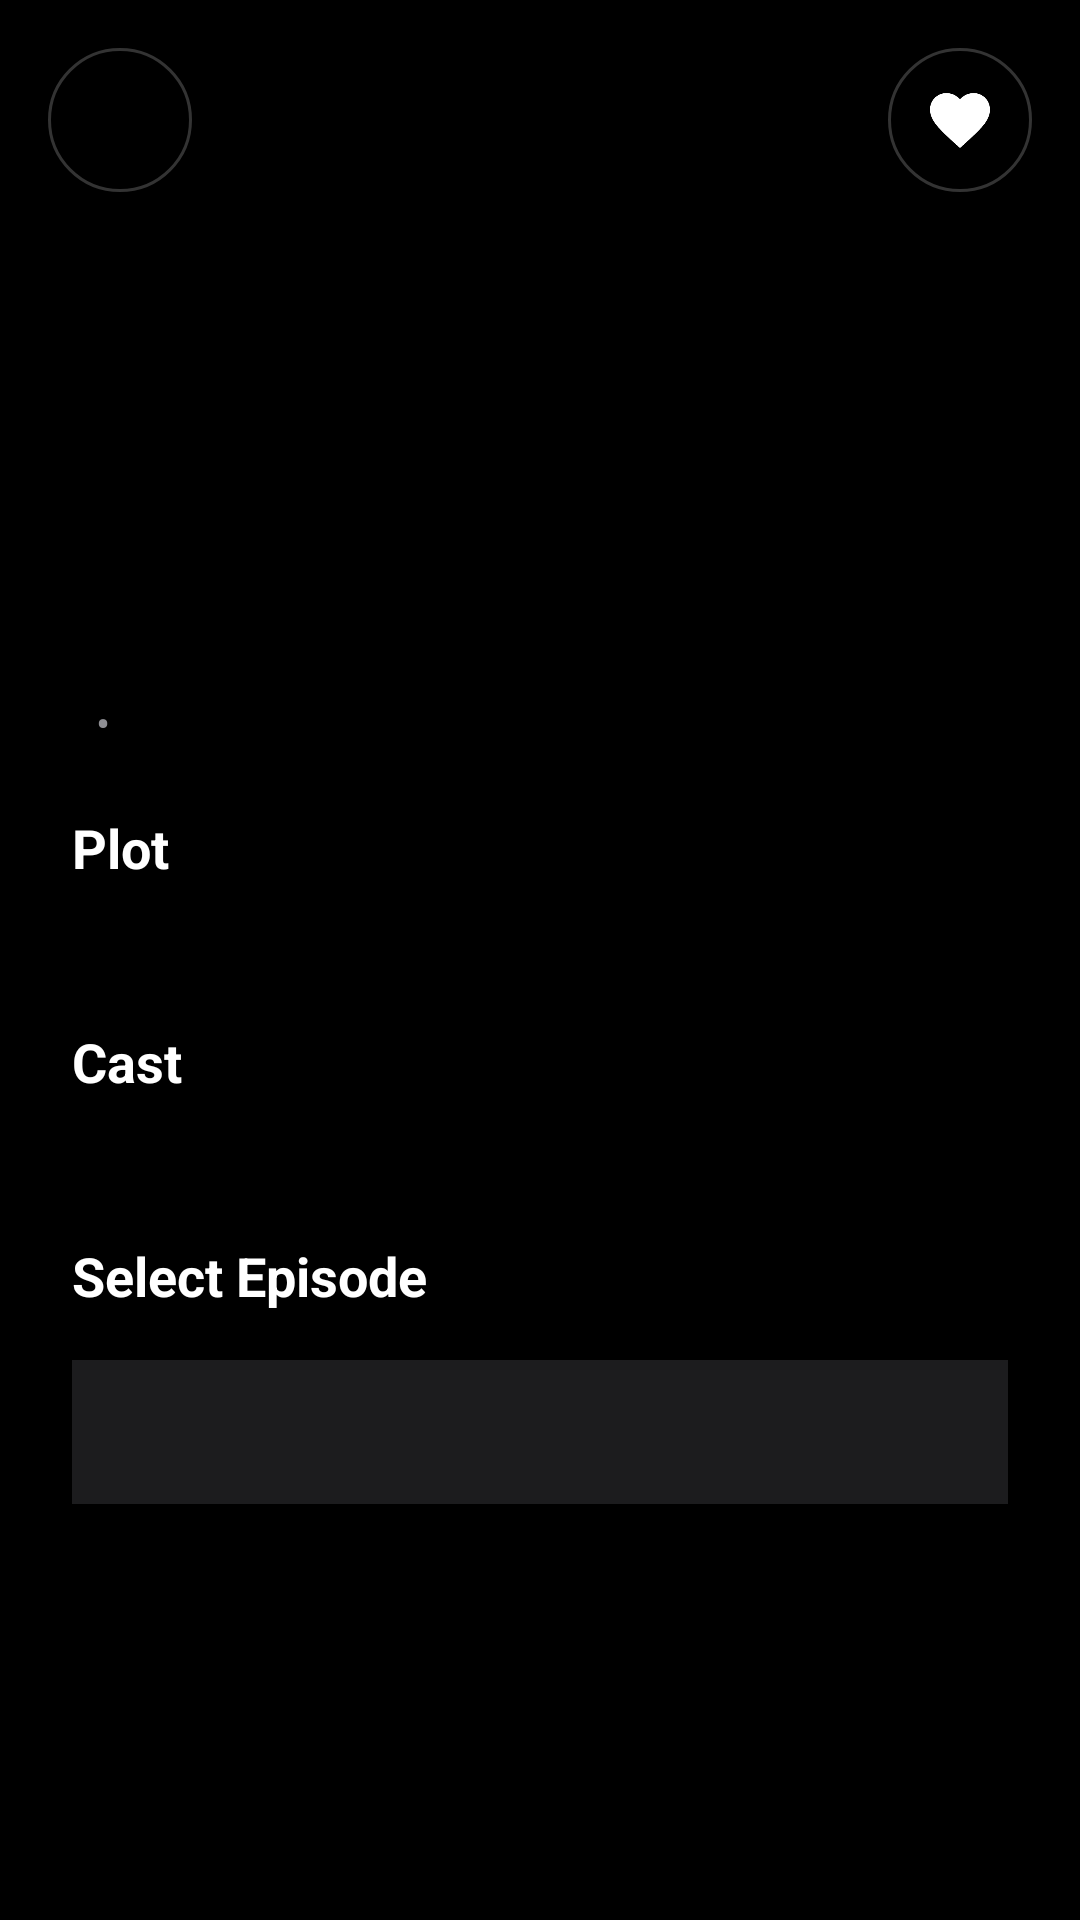

Locate icon controls on the screen. Image size 1080x1920, boxes as (x1, y1, x2, y2).
Favorite: (888, 48, 1032, 192)
